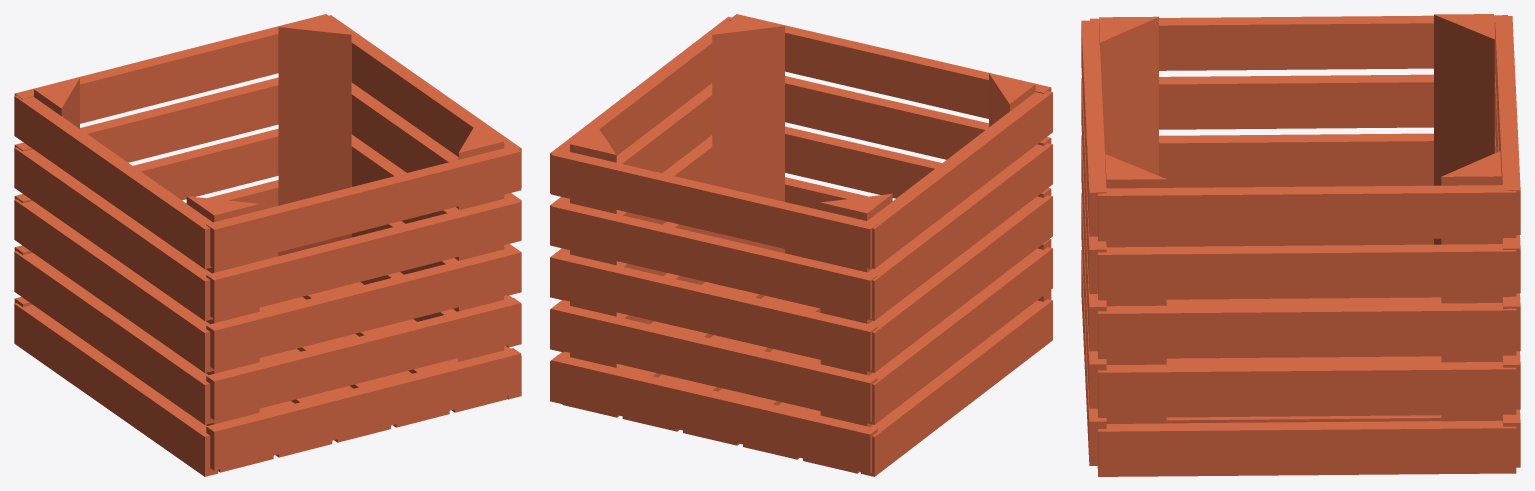
The picture shows the model from 3 angles, left to right: view 1: azimuth 30°, elevation 25°; view 2: azimuth 150°, elevation 25°; view 3: azimuth 270°, elevation 25°; orthographic projection. The views are drawn at different scales.
Visible parts, largest first — view 1: Cube.075; view 2: Cube.075; view 3: Cube.075.
Boxes of the visible parts, x1,y1,x2,y2 form: Cube.075: (14, 14, 521, 476); Cube.075: (550, 14, 1052, 476); Cube.075: (1081, 14, 1520, 476).
Bounding box in the file's own units: 94.28 × 70.44 × 96.75.
